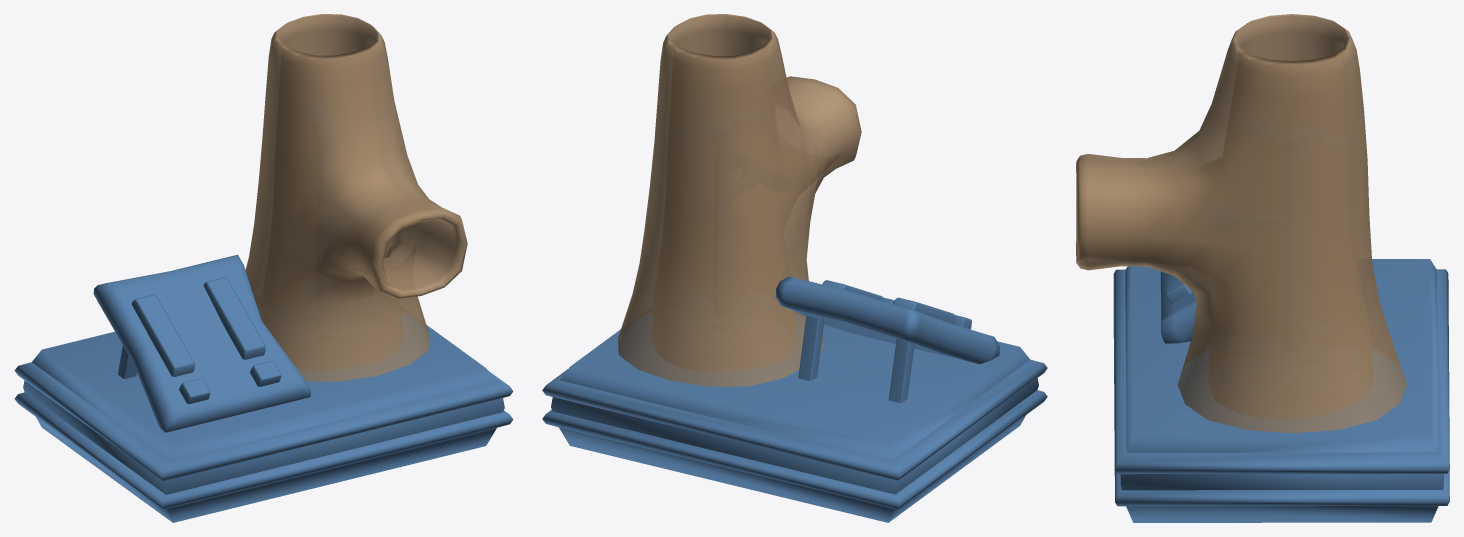
Rendered from Appliance_Cutter_Alpha.fbx.
3 renders of one model, left to right at view 1: azimuth 30°, elevation 25°; view 2: azimuth 150°, elevation 25°; view 3: azimuth 270°, elevation 25°, orthographic. The views are drawn at different scales.
Visible parts, largest first — view 1: Glass, Base, Pannel, Left_Gauge, Right_Gauge, Left_Button, Right_Button; view 2: Glass, Base, Pannel, Left_Gauge; view 3: Glass, Base, Pannel, Right_Button.
Boxes of the visible parts, x1=… form: Glass: x1=245, y1=14, x2=467, y2=381; Base: x1=14, y1=308, x2=513, y2=522; Pannel: x1=93, y1=254, x2=310, y2=432; Left_Gauge: x1=131, y1=294, x2=194, y2=376; Right_Gauge: x1=203, y1=277, x2=265, y2=359; Left_Button: x1=179, y1=378, x2=210, y2=404; Right_Button: x1=250, y1=361, x2=281, y2=386; Glass: x1=618, y1=14, x2=861, y2=386; Base: x1=542, y1=312, x2=1047, y2=522; Pannel: x1=775, y1=276, x2=999, y2=403; Left_Gauge: x1=893, y1=297, x2=955, y2=324; Glass: x1=1076, y1=14, x2=1406, y2=433; Base: x1=1113, y1=259, x2=1449, y2=522; Pannel: x1=1160, y1=271, x2=1196, y2=343; Right_Button: x1=1165, y1=278, x2=1191, y2=304.
Bounding box in the file's own units: 130 × 135 × 104.
